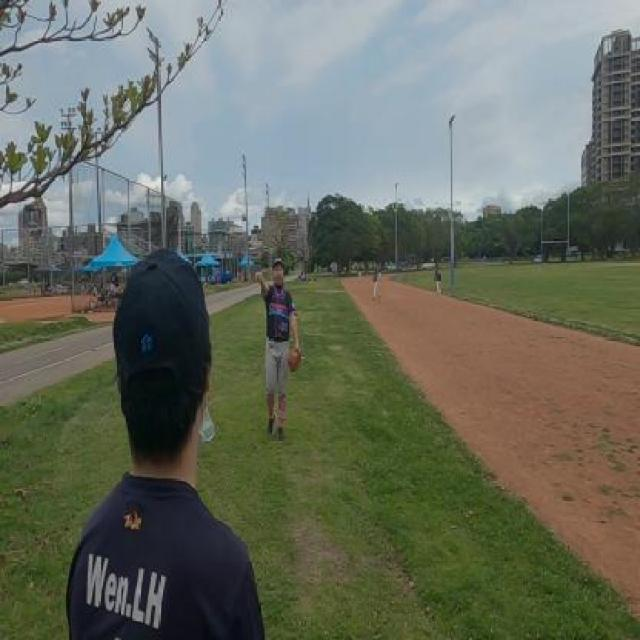baseball: (242, 212, 246, 222)
